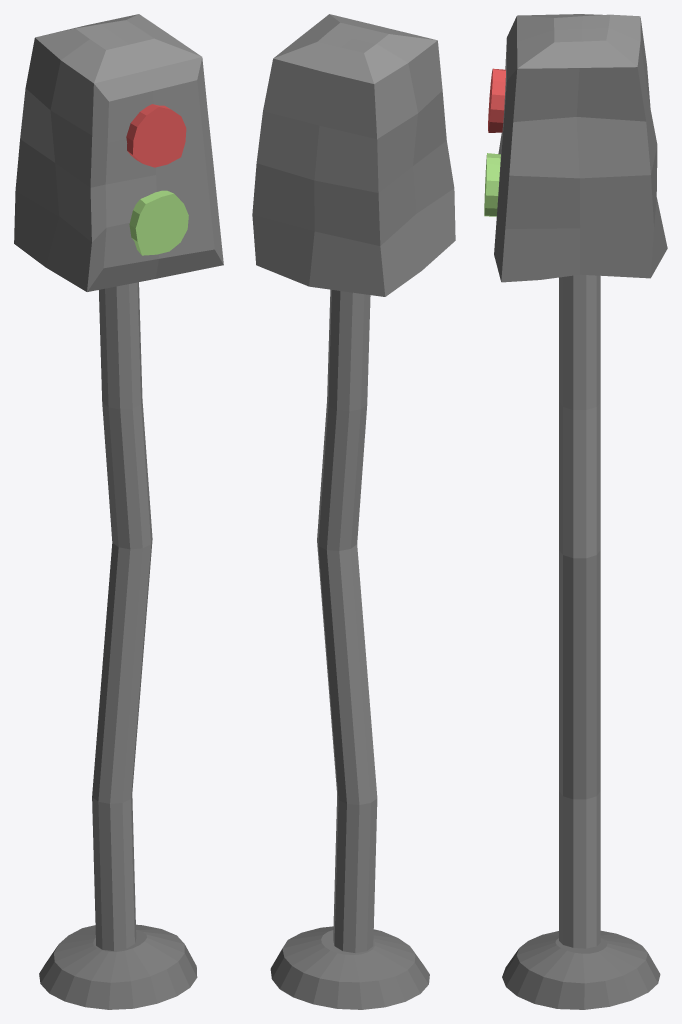
The model's file is Traffic Light.fbx.
3 views of the same model, side by side, from view 1: azimuth 30°, elevation 25°; view 2: azimuth 150°, elevation 25°; view 3: azimuth 270°, elevation 25° (orthographic).
Parts seen in each view (by area): view 1: Cube, Cylinder, Cylinder.001, Cylinder.003, Cylinder.002; view 2: Cube, Cylinder, Cylinder.001; view 3: Cube, Cylinder, Cylinder.001, Cylinder.002, Cylinder.003.
Boxes of the visible parts, box(x1,y1,x2,y2) form: Cube: box(14, 14, 223, 291); Cylinder: box(92, 282, 152, 950); Cylinder.001: box(39, 924, 197, 1009); Cylinder.003: box(129, 190, 188, 255); Cylinder.002: box(126, 104, 186, 167); Cube: box(252, 14, 455, 296); Cylinder: box(317, 289, 377, 953); Cylinder.001: box(270, 926, 429, 1009); Cube: box(494, 14, 667, 282); Cylinder: box(559, 274, 600, 948); Cylinder.001: box(502, 930, 660, 1009); Cylinder.002: box(488, 68, 505, 132); Cylinder.003: box(484, 153, 500, 216).
Size of the model in its own units: 80.05 by 506 by 88.48.
